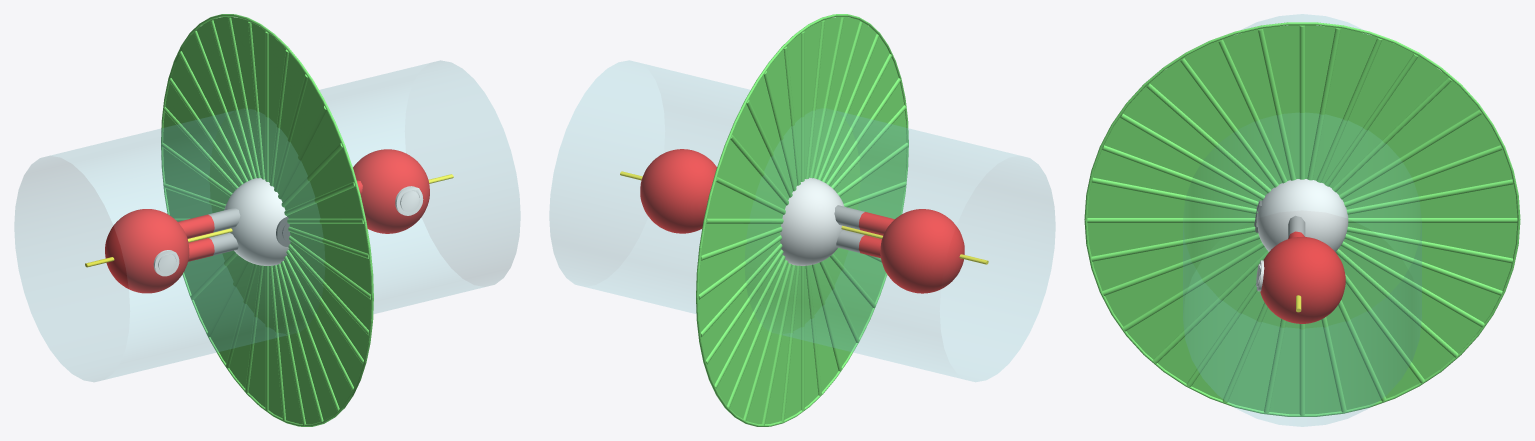
3 views of the same model, side by side, from view 1: azimuth 30°, elevation 25°; view 2: azimuth 150°, elevation 25°; view 3: azimuth 270°, elevation 25° (orthographic). The views are drawn at different scales.
Parts seen in each view (by area): view 1: Cylinder.001, Circle, C02.001, Cylinder.012, Cylinder; view 2: Cylinder.001, Circle, C02.001, Cylinder.012; view 3: Circle, Cylinder.012, Cylinder.001, C02.001.
Part boxes in pixels (x1,y1,x2,y2): Cylinder.001: (14,60,520,381); Circle: (161,14,373,426); C02.001: (105,149,429,293); Cylinder.012: (161,17,370,425); Cylinder: (85,174,453,267); Cylinder.001: (549,60,1055,381); Circle: (696,14,908,426); C02.001: (640,149,964,293); Cylinder.012: (698,17,908,425); Circle: (1084,22,1520,416); Cylinder.012: (1087,25,1517,415); Cylinder.001: (1183,14,1421,426); C02.001: (1254,179,1348,323).
Size of the model in its own units: 389 by 364 by 365.
